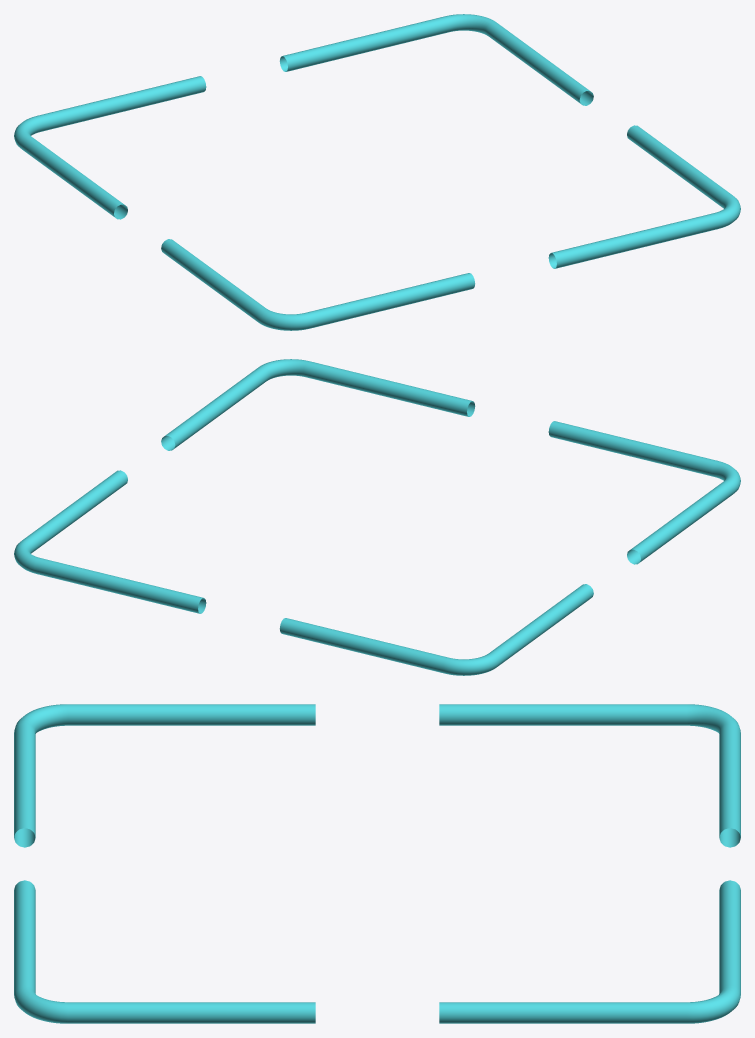
File: MasuAppealFrame.fbx
3 views of the same model, one above another, from view 1: azimuth 30°, elevation 25°; view 2: azimuth 150°, elevation 25°; view 3: azimuth 270°, elevation 25° (orthographic). The views are drawn at different scales.
Parts seen in each view (by area): view 1: Torus.001; view 2: Torus.001; view 3: Torus.001.
Boxes of the visible parts, x1,y1,x2,y2 form: Torus.001: (14,14,740,330); Torus.001: (14,359,740,675); Torus.001: (14,704,740,1023).
Size of the model in its own units: 587 by 17.5 by 587.
